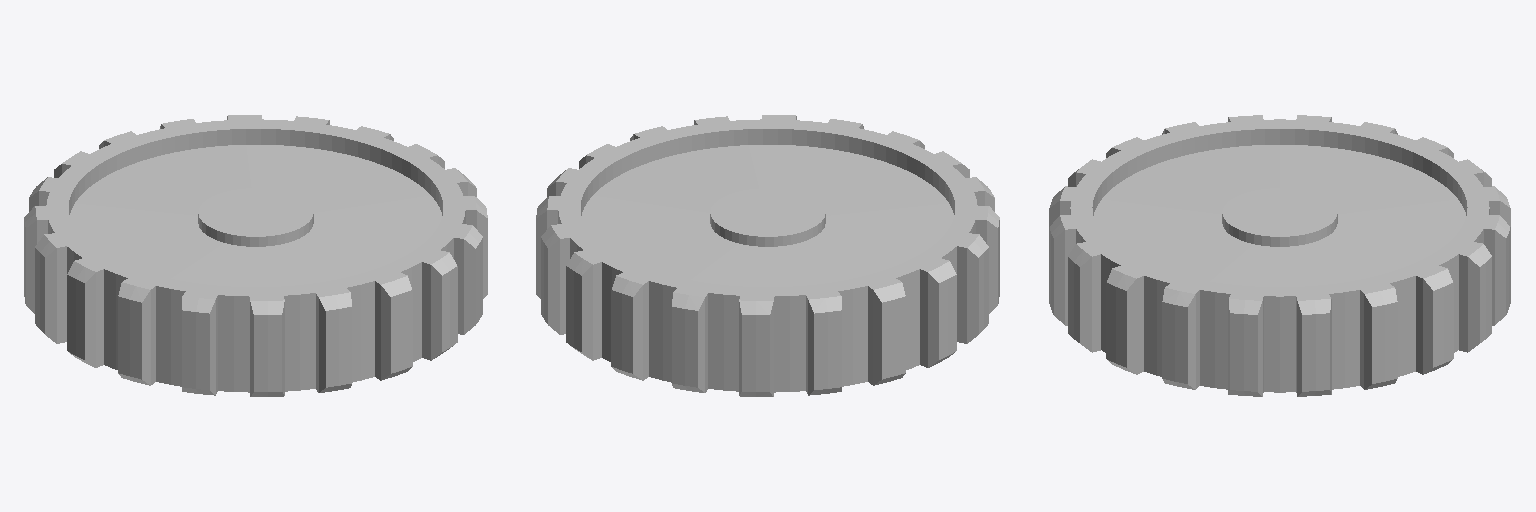
Rendered from large-gear.obj.
3 views of the same model, side by side, from view 1: azimuth 30°, elevation 25°; view 2: azimuth 150°, elevation 25°; view 3: azimuth 270°, elevation 25° (orthographic).
Parts seen in each view (by area): view 1: Gear.004; view 2: Gear.004; view 3: Gear.004.
Part boxes in pixels (x1,y1,x2,y2): Gear.004: (24,115,487,396); Gear.004: (536,115,999,396); Gear.004: (1049,115,1510,396).
Size of the model in its own units: 4.18 by 0.9604 by 4.18.